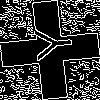Y: (25, 25, 74, 63)
